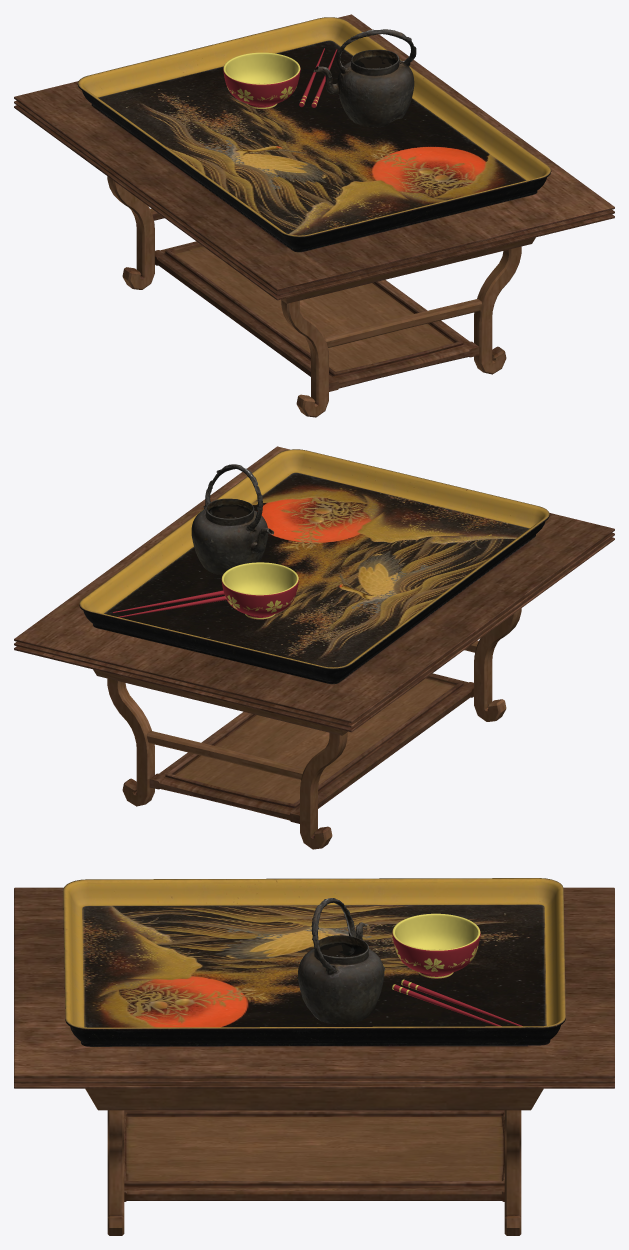
File: mesaAmbientada.glb
The picture shows the model from 3 angles, top to bottom: view 1: azimuth 30°, elevation 25°; view 2: azimuth 150°, elevation 25°; view 3: azimuth 270°, elevation 25°; orthographic projection. The views are drawn at different scales.
Bounding box in the file's own units: 59.64 × 47.35 × 80.42.
10 materials, 5 textured.
